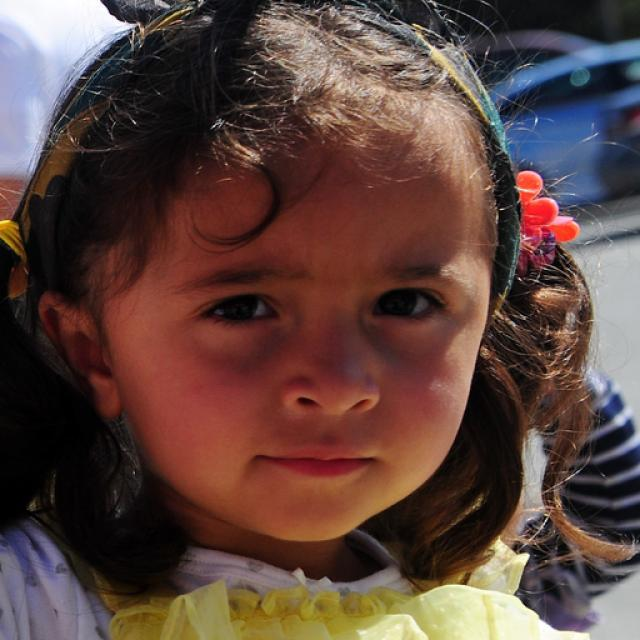sad: (120, 118, 491, 540)
